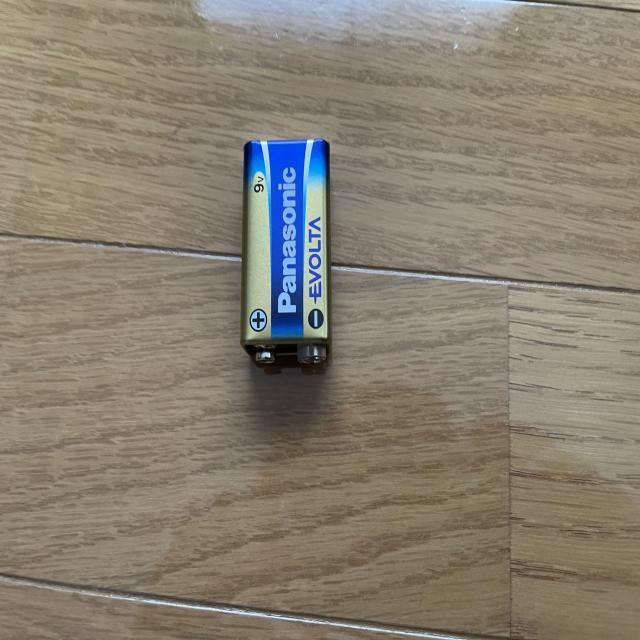9V: (238, 138, 331, 366)
